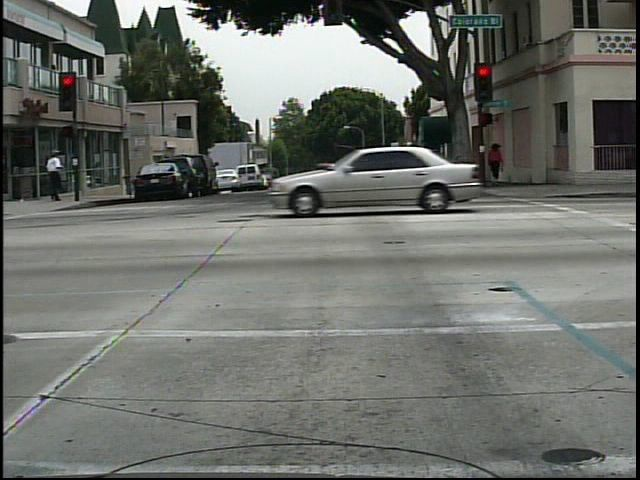person: (478, 138, 509, 193), (41, 144, 68, 203)
